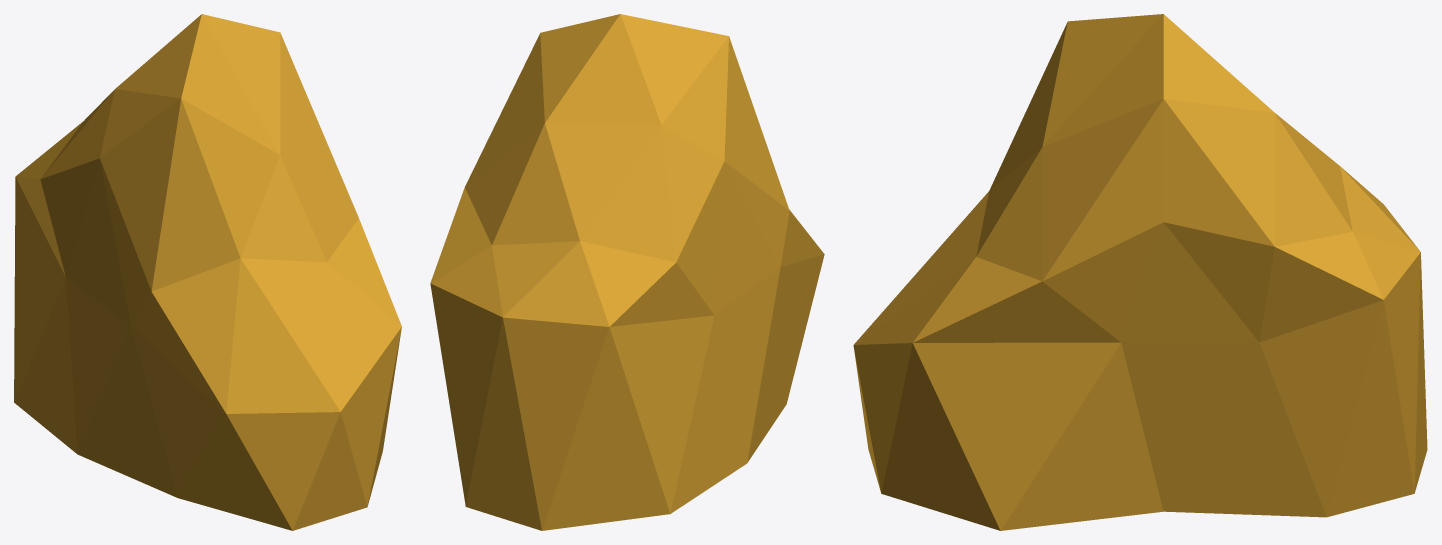
3 views of the same model, side by side, from view 1: azimuth 30°, elevation 25°; view 2: azimuth 150°, elevation 25°; view 3: azimuth 270°, elevation 25° (orthographic). The views are drawn at different scales.
Parts seen in each view (by area): view 1: GeoSphere007; view 2: GeoSphere007; view 3: GeoSphere007.
Part boxes in pixels (<box>): GeoSphere007: <box>14,14,401,530</box>; GeoSphere007: <box>430,14,824,530</box>; GeoSphere007: <box>853,14,1427,530</box>.
Bounding box in the file's own units: 9.27 × 15.71 × 17.75.
